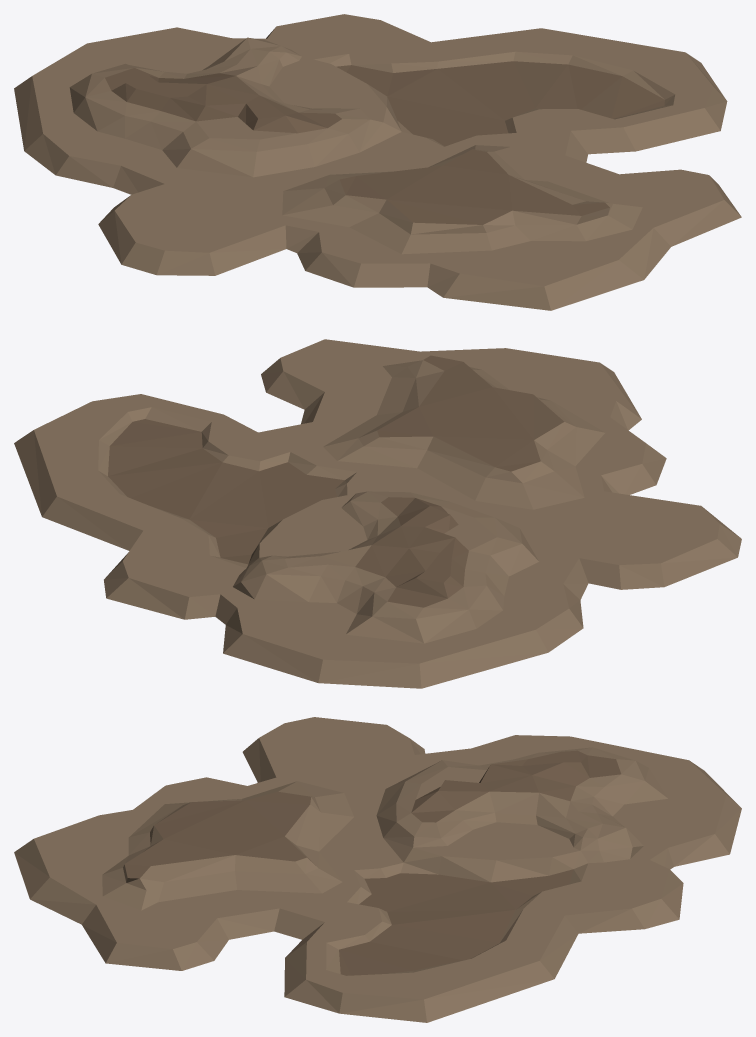
The model's file is EA03_Env_Mud_Flat_01b.glb.
The picture shows the model from 3 angles, top to bottom: view 1: azimuth 30°, elevation 25°; view 2: azimuth 150°, elevation 25°; view 3: azimuth 270°, elevation 25°; orthographic projection. The views are drawn at different scales.
Visible parts, largest first — view 1: EA03_Env_Mud_Flat_01b; view 2: EA03_Env_Mud_Flat_01b; view 3: EA03_Env_Mud_Flat_01b.
Part boxes in pixels (x1,y1,x2,y2): EA03_Env_Mud_Flat_01b: [14, 14, 741, 310]; EA03_Env_Mud_Flat_01b: [14, 339, 741, 688]; EA03_Env_Mud_Flat_01b: [14, 717, 741, 1022].
Bounding box in the file's own units: 5.5 × 0.3726 × 5.66.
1 material, 1 textured.
